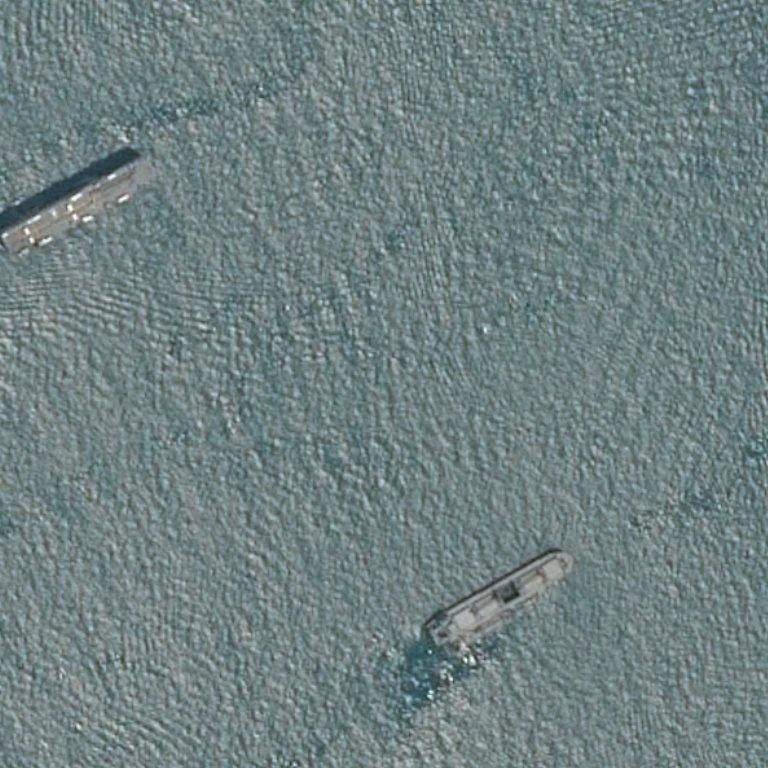ship: (423, 587, 579, 609), (0, 192, 80, 220), (568, 553, 575, 560), (437, 617, 443, 622), (425, 624, 431, 629), (149, 165, 154, 171), (10, 20, 16, 24), (4, 233, 8, 239)
